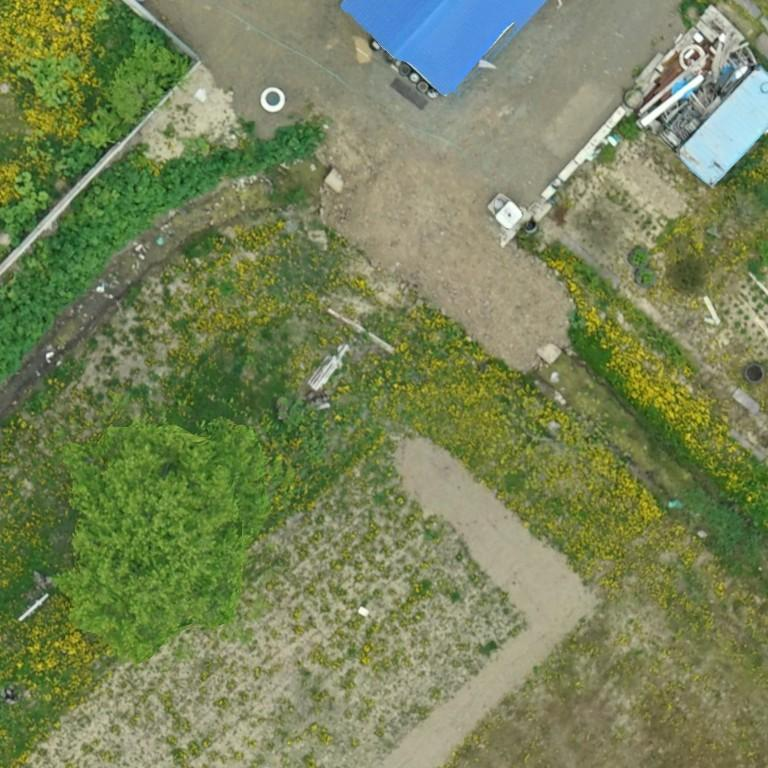hogweed: (0, 127, 317, 388)
